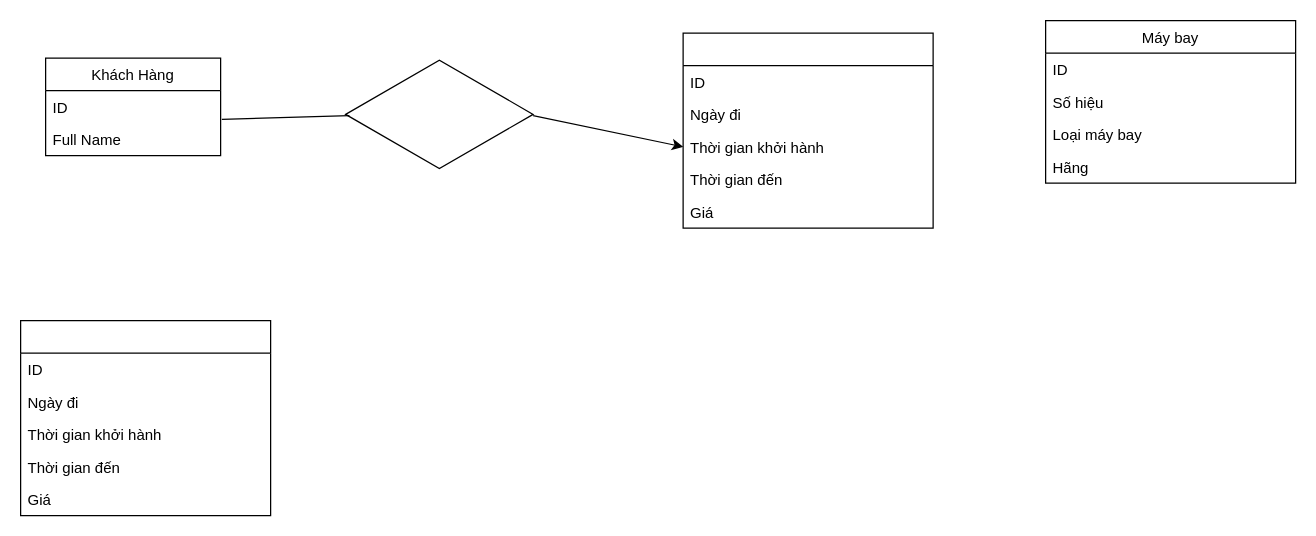
The diagram is 1316 pixels wide and 536 high, and some of its shapes have lost their labels. The box of each missing label's shape, as (x1, y1, x2, y2) in pixels:
Thanh toán online: (19, 319, 271, 516)
Vé máy bay: (682, 32, 933, 228)
